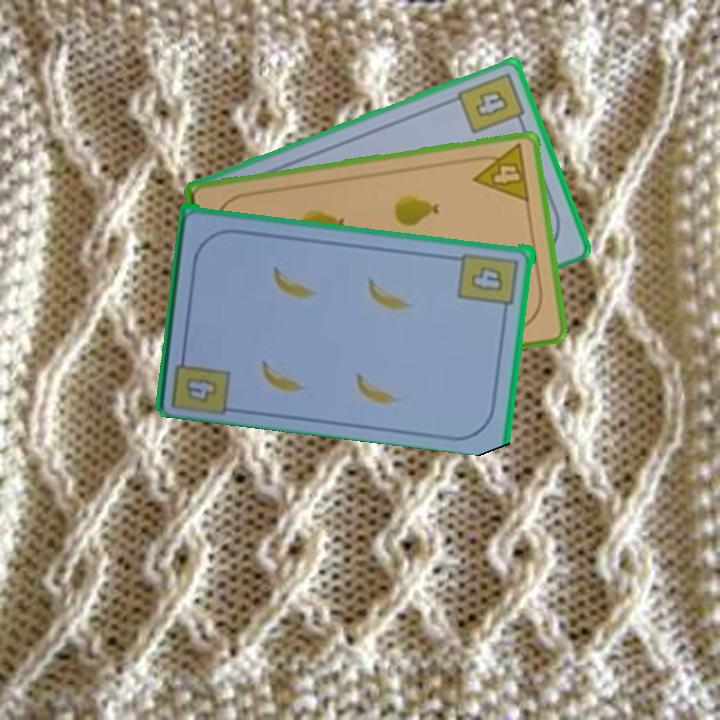4b: (454, 68, 528, 137), (169, 344, 234, 414), (456, 249, 522, 316)
4p: (467, 140, 533, 205)
